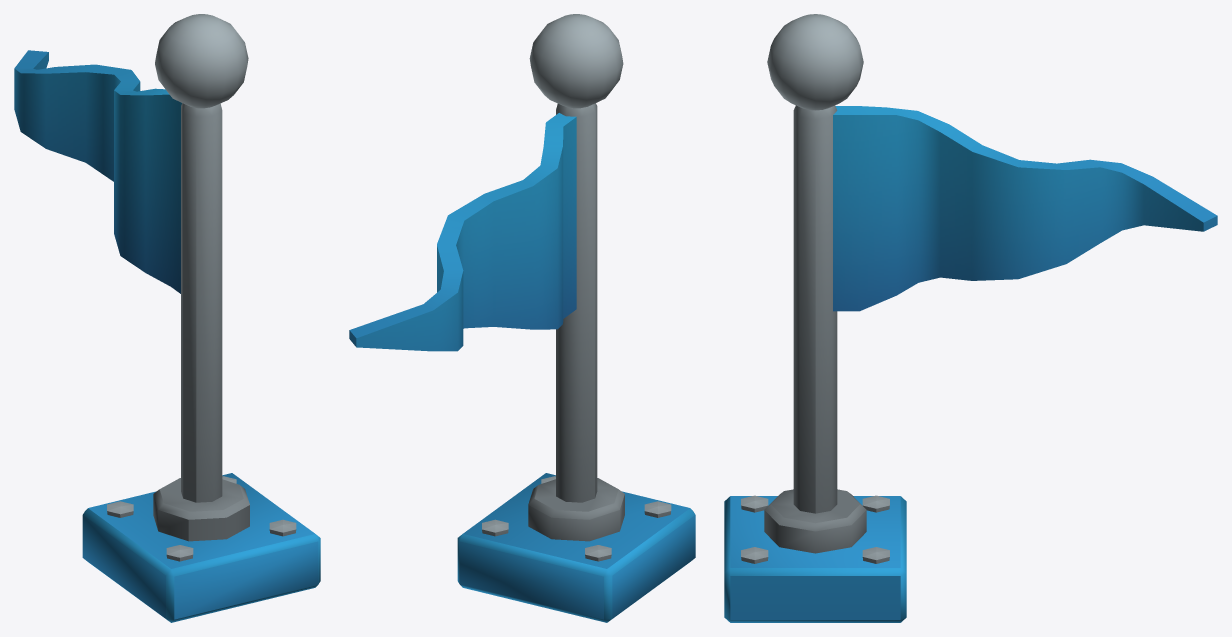
Rendered from flag-a-blue.glb.
3 views of the same model, side by side, from view 1: azimuth 30°, elevation 25°; view 2: azimuth 150°, elevation 25°; view 3: azimuth 270°, elevation 25° (orthographic). The views are drawn at different scales.
Parts seen in each view (by area): view 1: flag_A_blue; view 2: flag_A_blue; view 3: flag_A_blue.
Part boxes in pixels (x1,y1,x2,y2): flag_A_blue: (14, 14, 320, 622); flag_A_blue: (349, 14, 695, 622); flag_A_blue: (724, 14, 1217, 622).
Bounding box in the file's own units: 0.6 × 2.06 × 1.62.
Materials: 1 (1 with a texture image).
